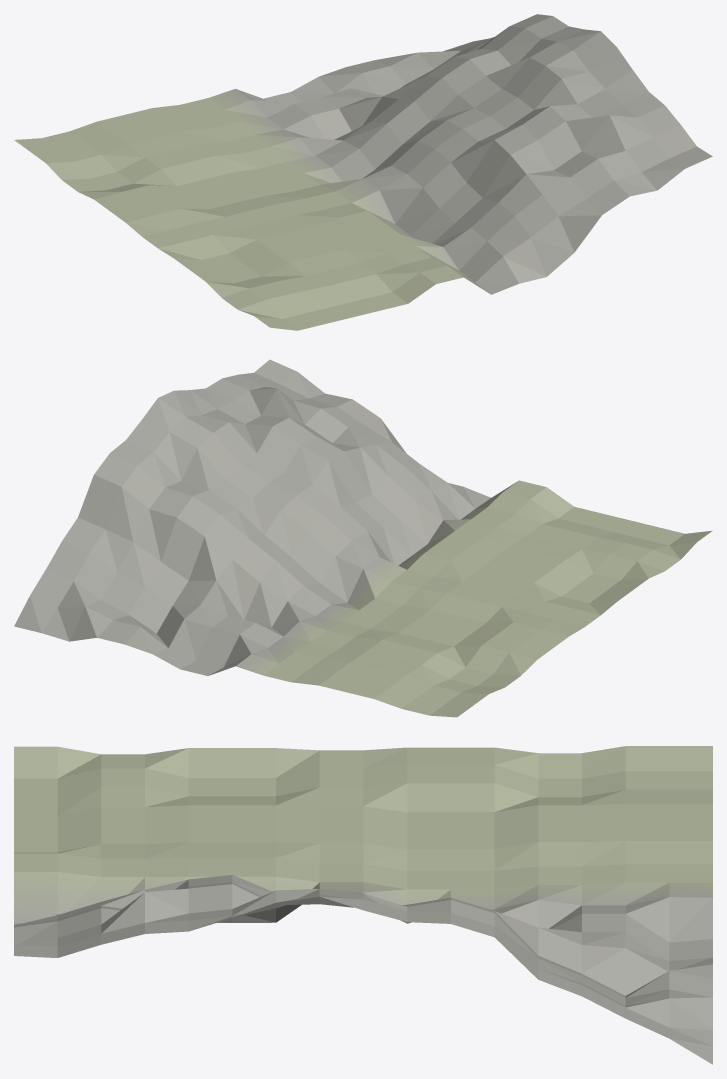
3 renders of one model, top to bottom at view 1: azimuth 30°, elevation 25°; view 2: azimuth 150°, elevation 25°; view 3: azimuth 270°, elevation 25°, orthographic. The views are drawn at different scales.
Bounding box in the file's own units: 32 × 8.84 × 32.
